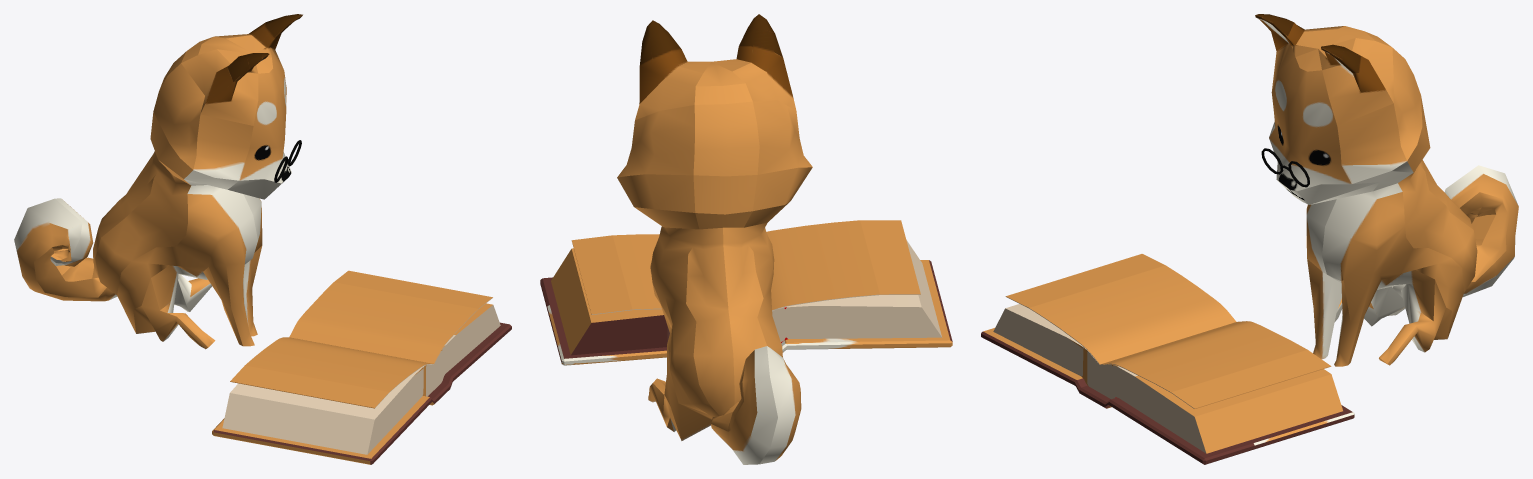
Rendered from book_frame10.obj.
3 renders of one model, left to right at view 1: azimuth 30°, elevation 25°; view 2: azimuth 150°, elevation 25°; view 3: azimuth 270°, elevation 25°, orthographic. The views are drawn at different scales.
Parts seen in each view (by area): view 1: StidyGlasses_Computer_Sitting:Sitting:newRigging:BodzL1, polySurface1; view 2: StidyGlasses_Computer_Sitting:Sitting:newRigging:BodzL1, polySurface1; view 3: StidyGlasses_Computer_Sitting:Sitting:newRigging:BodzL1, polySurface1.
Part boxes in pixels (box(x1,y1,x2,y2)): StidyGlasses_Computer_Sitting:Sitting:newRigging:BodzL1: box(14, 14, 302, 349); polySurface1: box(212, 270, 511, 464); StidyGlasses_Computer_Sitting:Sitting:newRigging:BodzL1: box(617, 14, 812, 464); polySurface1: box(540, 220, 952, 365); StidyGlasses_Computer_Sitting:Sitting:newRigging:BodzL1: box(1255, 14, 1518, 366); polySurface1: box(981, 254, 1354, 464).
Size of the model in its own units: 9.18 by 7.68 by 11.01.
Materials: 4 (4 with a texture image).
